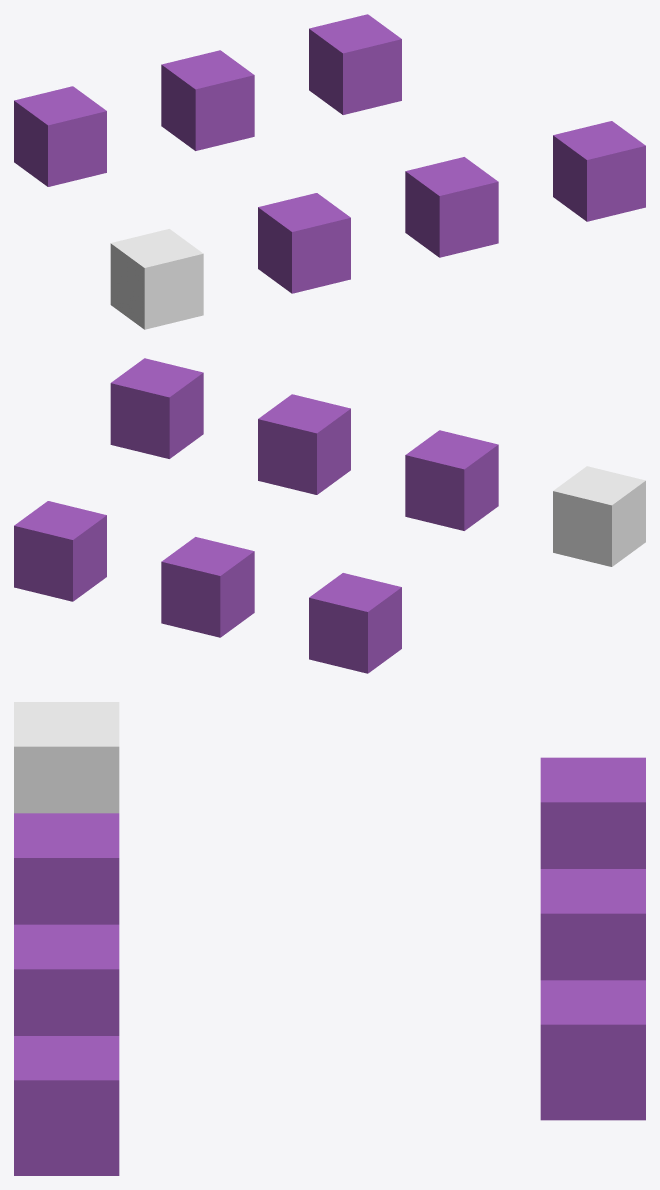
The picture shows the model from 3 angles, top to bottom: view 1: azimuth 30°, elevation 25°; view 2: azimuth 150°, elevation 25°; view 3: azimuth 270°, elevation 25°; orthographic projection. The views are drawn at different scales.
Visible parts, largest first — view 1: Enemy3, Enemy2, Block, Enemy4, Enemy0, Enemy1, Enemy5; view 2: Enemy1, Enemy2, Enemy5, Enemy0, Enemy3, Enemy4, Block; view 3: Enemy4, Enemy5, Enemy1, Block, Enemy0, Enemy2, Enemy3.
Boxes of the visible parts, left/top/right/bottom form: Enemy3: left=405, top=157, right=498, bottom=257; Enemy2: left=161, top=50, right=254, bottom=150; Block: left=110, top=229, right=203, bottom=329; Enemy4: left=309, top=14, right=401, bottom=114; Enemy0: left=14, top=86, right=106, bottom=186; Enemy1: left=258, top=193, right=350, bottom=293; Enemy5: left=553, top=121, right=645, bottom=221; Enemy1: left=405, top=430, right=498, bottom=530; Enemy2: left=161, top=537, right=254, bottom=637; Enemy5: left=110, top=358, right=203, bottom=458; Enemy0: left=309, top=573, right=401, bottom=673; Enemy3: left=258, top=394, right=350, bottom=494; Enemy4: left=14, top=501, right=106, bottom=601; Block: left=553, top=466, right=645, bottom=566; Enemy4: left=540, top=980, right=645, bottom=1120; Enemy5: left=14, top=1036, right=119, bottom=1175; Enemy1: left=14, top=813, right=119, bottom=924; Block: left=14, top=702, right=119, bottom=813; Enemy0: left=540, top=757, right=645, bottom=868; Enemy2: left=540, top=869, right=645, bottom=980; Enemy3: left=14, top=924, right=119, bottom=1035.
Size of what is drawn, in the model's own units: 6.8 by 4.8 by 0.8.
